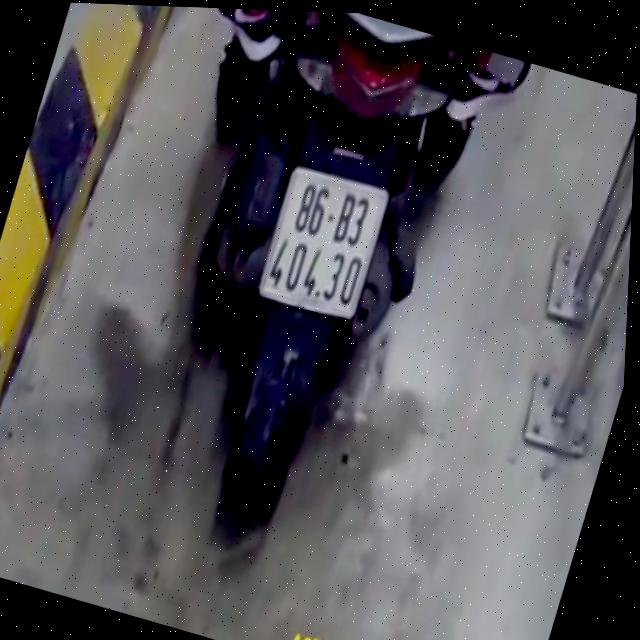motorcycle: (110, 5, 496, 574)
plate: (238, 150, 395, 325)
